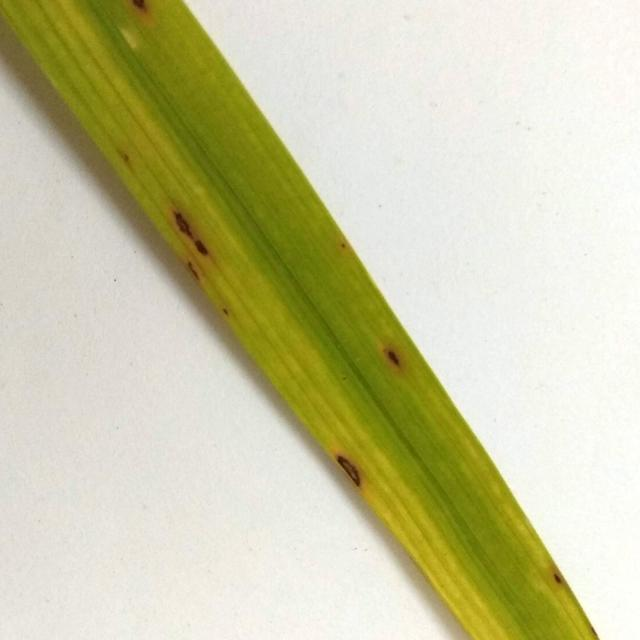Leaf blast: (2, 1, 598, 640)
